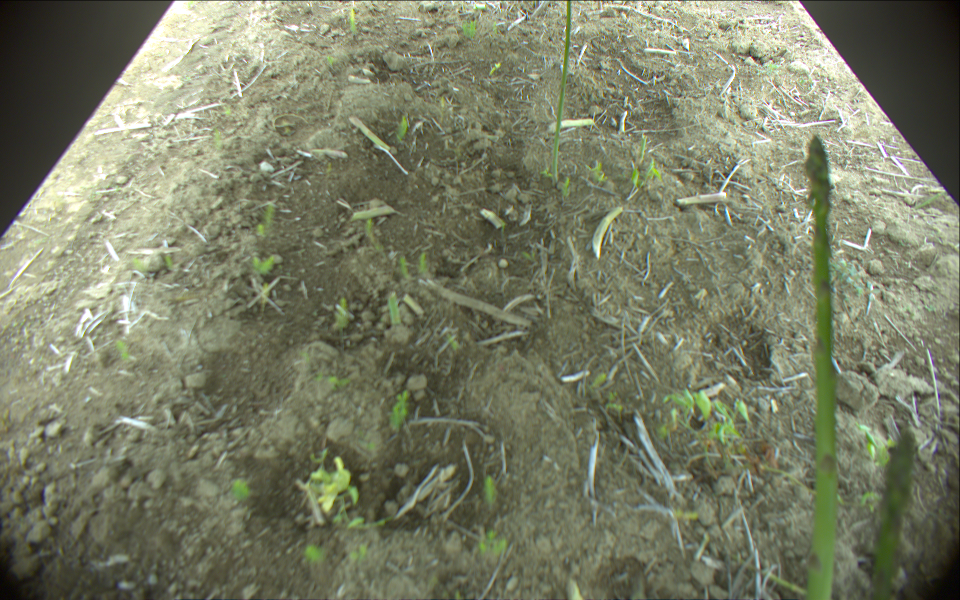aspa: (800, 137, 839, 600), (870, 431, 918, 600), (551, 1, 574, 183)
